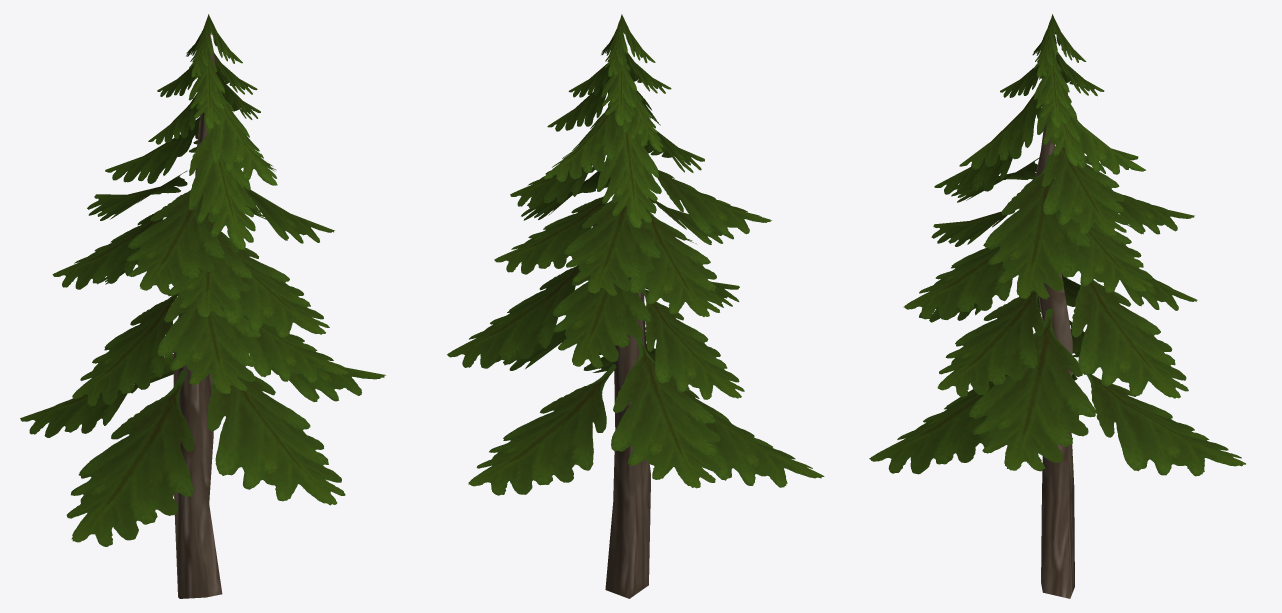
Rendered from Lty_shu.FBX.
3 renders of one model, left to right at view 1: azimuth 30°, elevation 25°; view 2: azimuth 150°, elevation 25°; view 3: azimuth 270°, elevation 25°, orthographic. The views are drawn at different scales.
Parts seen in each view (by area): view 1: Lty_shuye01, Lty_shugan01; view 2: Lty_shuye01, Lty_shugan01; view 3: Lty_shuye01, Lty_shugan01.
Part boxes in pixels (x1,y1,x2,y2): Lty_shuye01: (20, 14, 385, 546); Lty_shugan01: (173, 33, 222, 598); Lty_shuye01: (447, 14, 824, 495); Lty_shugan01: (605, 53, 650, 598); Lty_shuye01: (869, 14, 1245, 476); Lty_shugan01: (1035, 52, 1074, 598).
Bounding box in the file's own units: 226 × 227 × 356.
